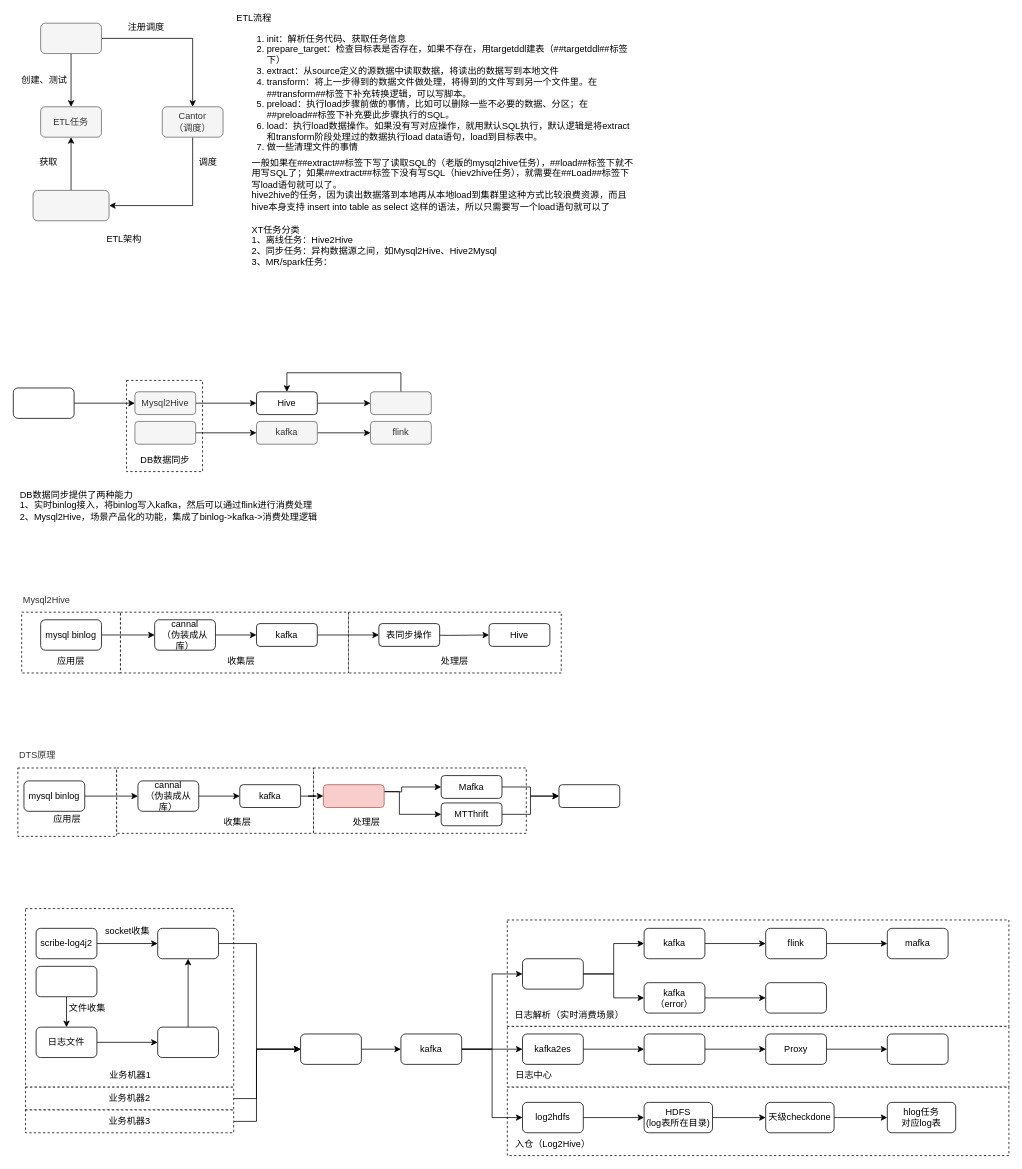
The diagram is 1022 pixels wide and 1169 high, and some of its shapes have lost their labels. The box of each missing label's shape, as (x1, y1, x2, y2) in pixels:
DTS: (323, 784, 384, 808)
ES: (643, 1033, 705, 1064)
Hive2Hive: (370, 391, 431, 415)
log_agent: (157, 928, 218, 959)
log_agent_file: (157, 1026, 218, 1058)
logparser: (522, 958, 583, 989)
Mysql: (13, 387, 74, 418)
SQLWeaver （ETL执行工具）: (32, 190, 109, 221)
xmd-log4j2: (35, 966, 97, 997)
XT （管理平台）: (40, 22, 101, 54)
业务应用: (558, 784, 620, 808)
告警: (765, 982, 826, 1013)
实时binlog接入: (134, 421, 196, 444)
收集通道: (300, 1033, 361, 1064)
日志中心前端: (887, 1033, 948, 1064)
